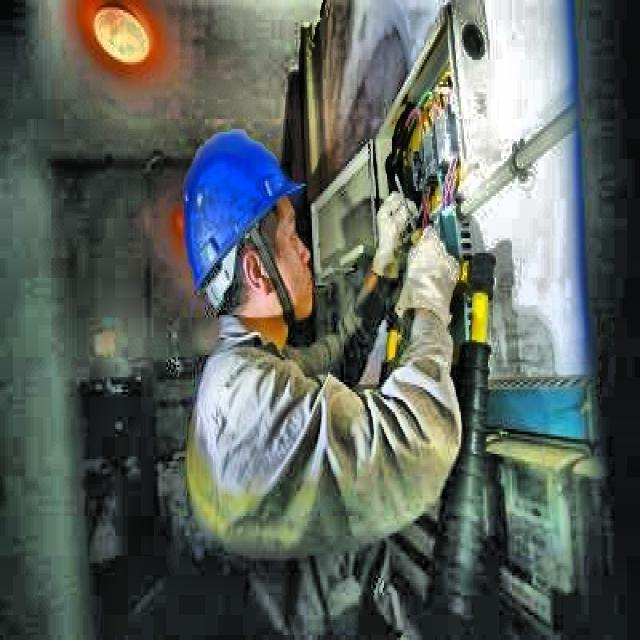helmet: (165, 116, 318, 370)
